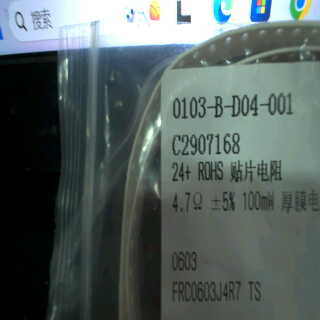4.7R: (168, 185, 208, 219)
